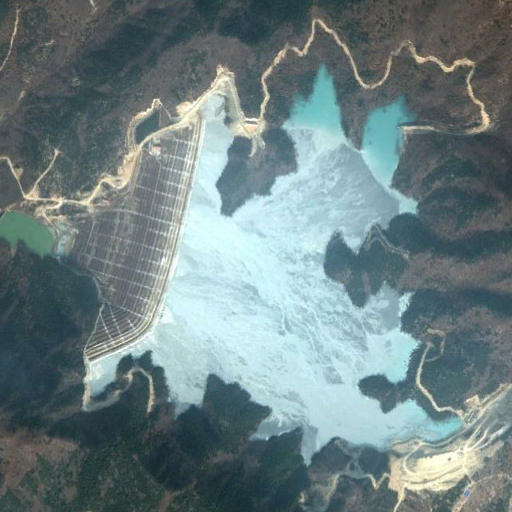tp: (56, 62, 466, 467)
